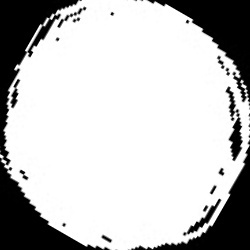spot: (5, 0, 249, 249)
